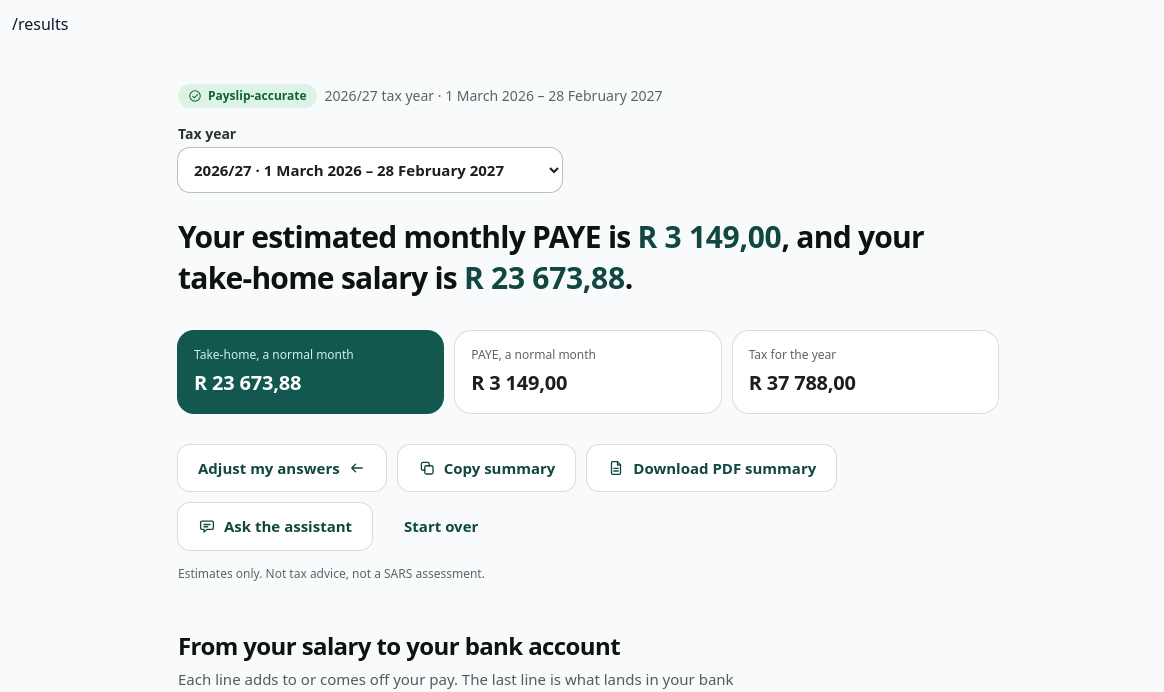
it: results page: copy summary › when the browser refuses, shows the text to select instead
Click the button "Copy summary".
click(487, 468)  # box 398,444 -> 575,491
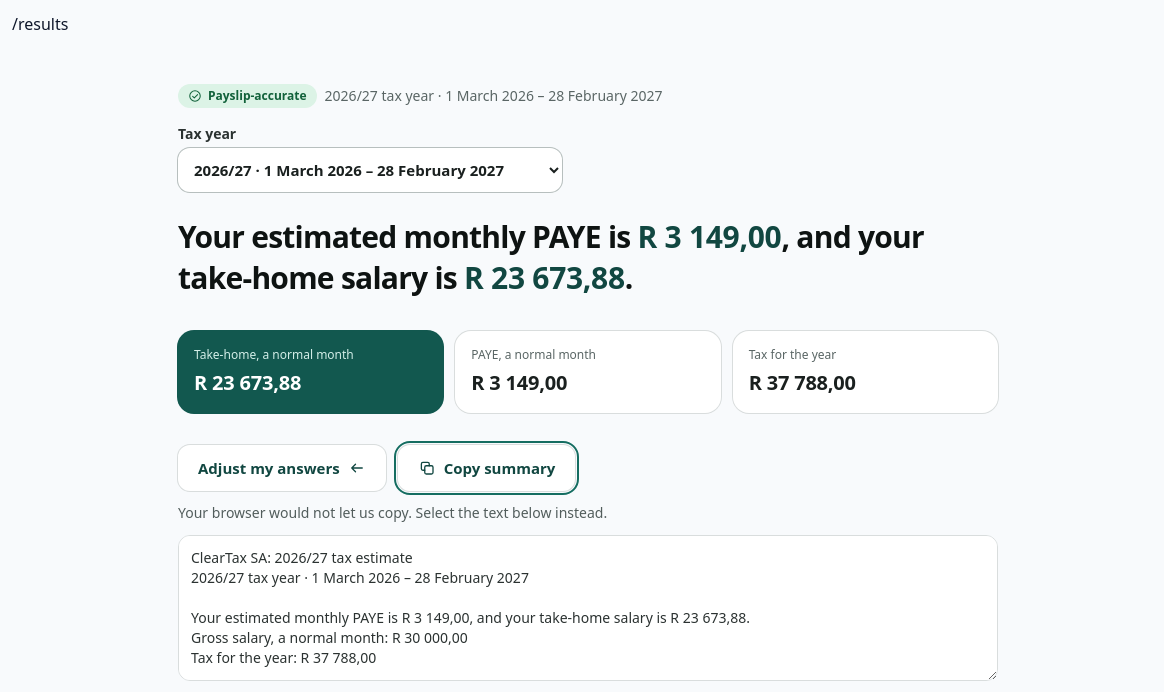
Result: the text "Your browser would not let us copy. Select the text below instead." is shown at 178,503 -> 607,522
